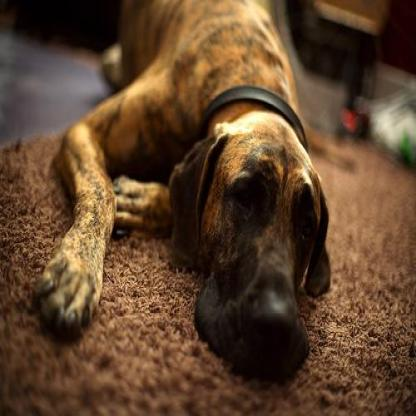Great_Dane: (27, 1, 331, 385)
